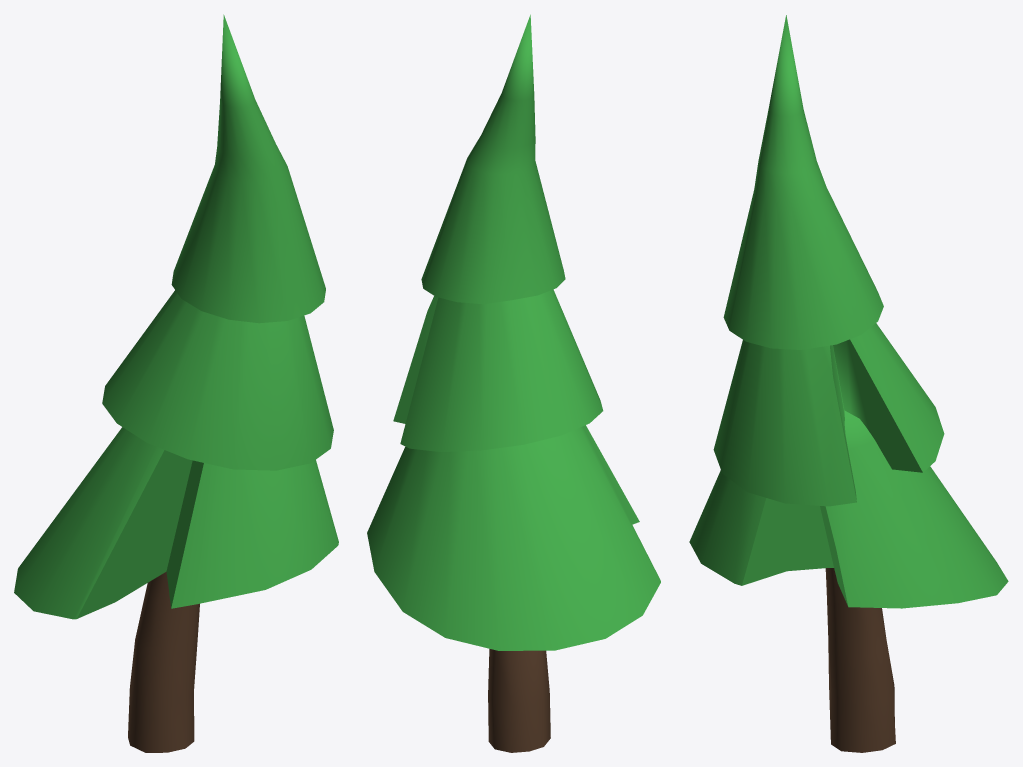
The model's file is WF_PCGTree.13.glb.
3 renders of one model, left to right at view 1: azimuth 30°, elevation 25°; view 2: azimuth 150°, elevation 25°; view 3: azimuth 270°, elevation 25°, orthographic. The views are drawn at different scales.
Parts seen in each view (by area): view 1: Tree.13; view 2: Tree.13; view 3: Tree.13.
Part boxes in pixels (bbox=[...]): Tree.13: bbox=[14, 14, 338, 752]; Tree.13: bbox=[367, 14, 660, 752]; Tree.13: bbox=[689, 15, 1008, 752].
Bounding box in the file's own units: 0.628 × 1.59 × 0.6224.
